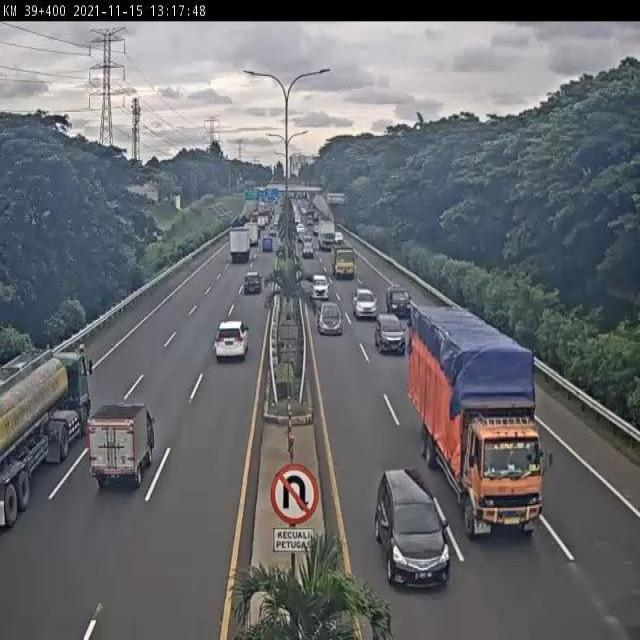car: (376, 467, 450, 591), (215, 320, 251, 361), (375, 312, 407, 355), (317, 301, 344, 335), (352, 288, 379, 321), (242, 270, 263, 298), (310, 273, 330, 300)
truck: (409, 306, 555, 546), (0, 346, 92, 534), (85, 400, 155, 487), (330, 243, 359, 280), (386, 284, 414, 321), (229, 227, 250, 263)
